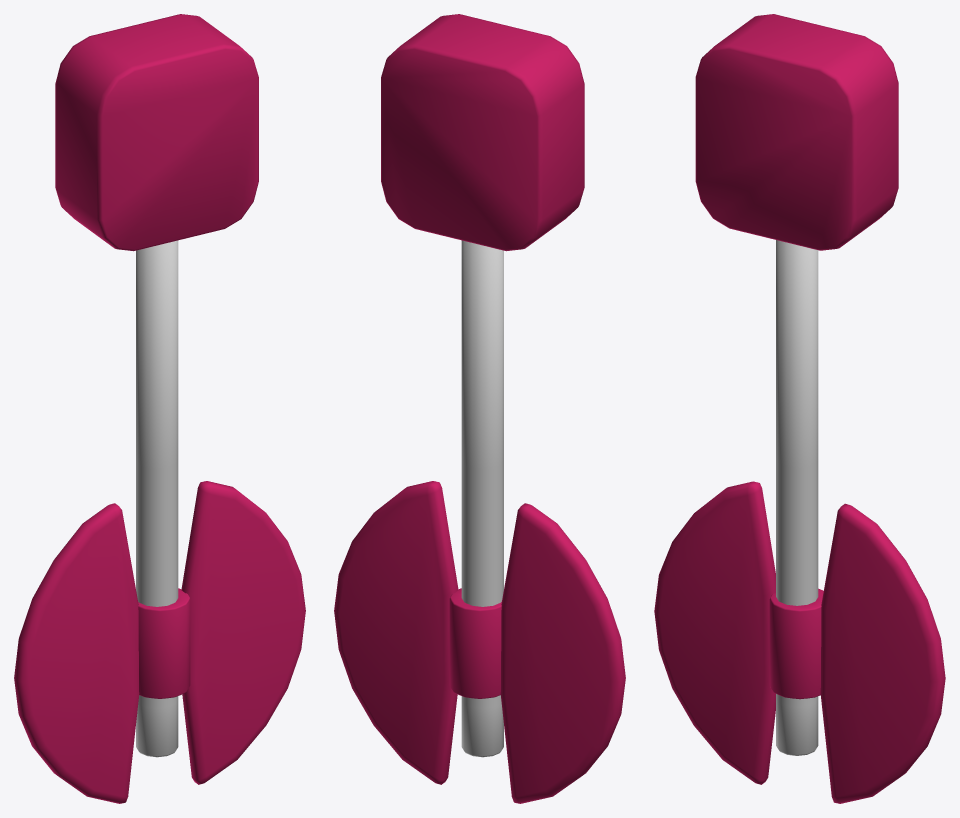
File: wing_pink.fbx
The picture shows the model from 3 angles, left to right: view 1: azimuth 30°, elevation 25°; view 2: azimuth 150°, elevation 25°; view 3: azimuth 330°, elevation 25°; orthographic projection.
Visible parts, largest first — view 1: wing_pink_serve, wing_pink_main; view 2: wing_pink_serve, wing_pink_main; view 3: wing_pink_serve, wing_pink_main.
Part boxes in pixels (left/top/right/bottom): wing_pink_serve: left=14, top=240, right=305, bottom=803; wing_pink_main: left=55, top=14, right=258, bottom=251; wing_pink_serve: left=334, top=240, right=625, bottom=803; wing_pink_main: left=381, top=14, right=584, bottom=251; wing_pink_serve: left=654, top=240, right=945, bottom=803; wing_pink_main: left=695, top=14, right=898, bottom=250.
Size of the model in its own units: 0.3099 by 0.7741 by 0.0861.
